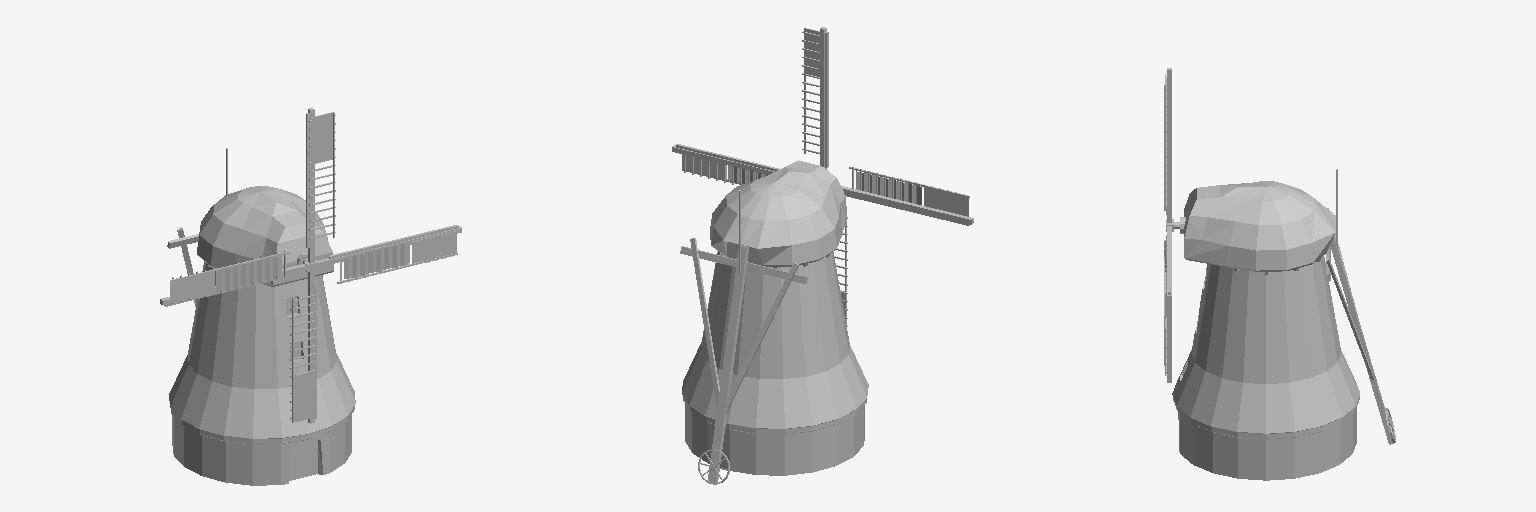
File: windmill.obj
3 renders of one model, left to right at view 1: azimuth 30°, elevation 25°; view 2: azimuth 150°, elevation 25°; view 3: azimuth 270°, elevation 25°, orthographic.
Parts seen in each view (by area): view 1: building_Untitled.002, Object_Untitled.003; view 2: building_Untitled.002, Object_Untitled.003; view 3: building_Untitled.002, Object_Untitled.003.
Part boxes in pixels (x1,y1,x2,y2): building_Untitled.002: (167,148,355,485); Object_Untitled.003: (160,108,461,423); building_Untitled.002: (680,160,868,484); Object_Untitled.003: (672,27,973,326); building_Untitled.002: (1172,169,1395,480); Object_Untitled.003: (1164,68,1173,382).
Size of the model in its own units: 19.08 by 22.81 by 12.81.